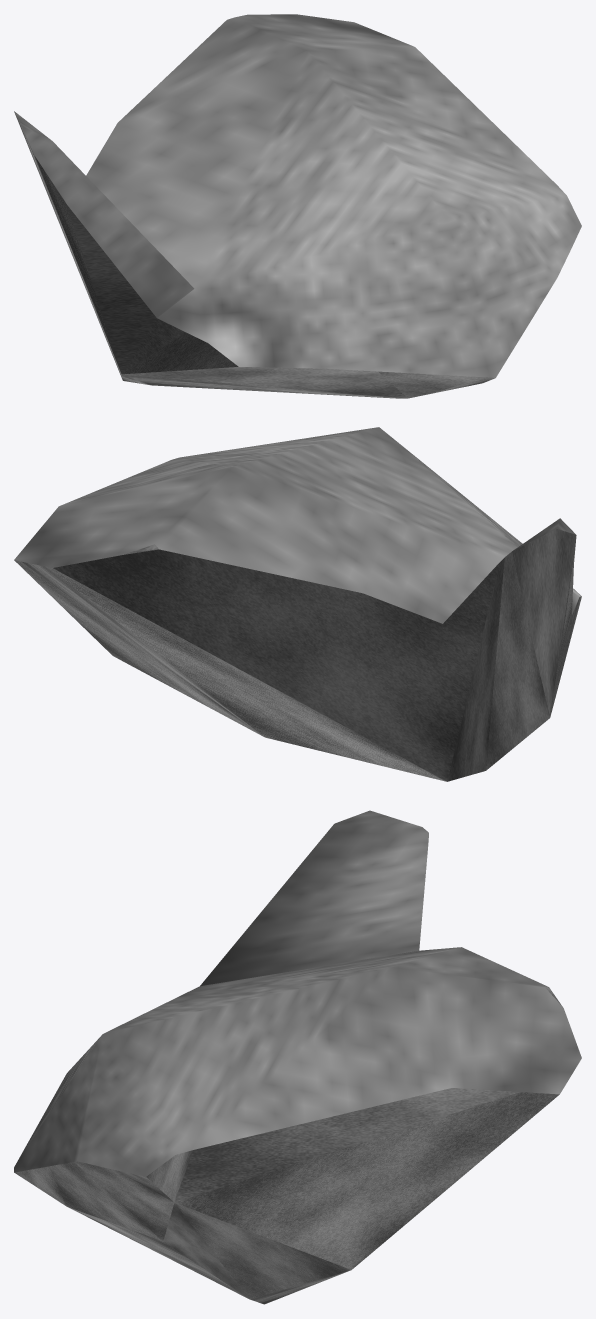
Rendered from body_cell_051.fbx.
The picture shows the model from 3 angles, top to bottom: view 1: azimuth 30°, elevation 25°; view 2: azimuth 150°, elevation 25°; view 3: azimuth 270°, elevation 25°; orthographic projection. The views are drawn at different scales.
Visible parts, largest first — view 1: body_cell.051; view 2: body_cell.051; view 3: body_cell.051.
Boxes of the visible parts, box(x1,y1,x2,y2) form: body_cell.051: box(14, 14, 581, 398); body_cell.051: box(14, 427, 581, 781); body_cell.051: box(14, 810, 581, 1304).
Size of the model in its own units: 42.69 by 28.23 by 44.33.
